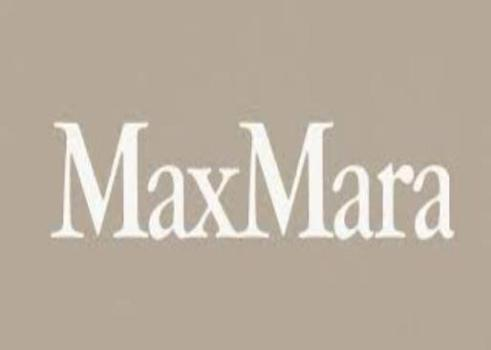MAX-MARA: (50, 115, 453, 240)
